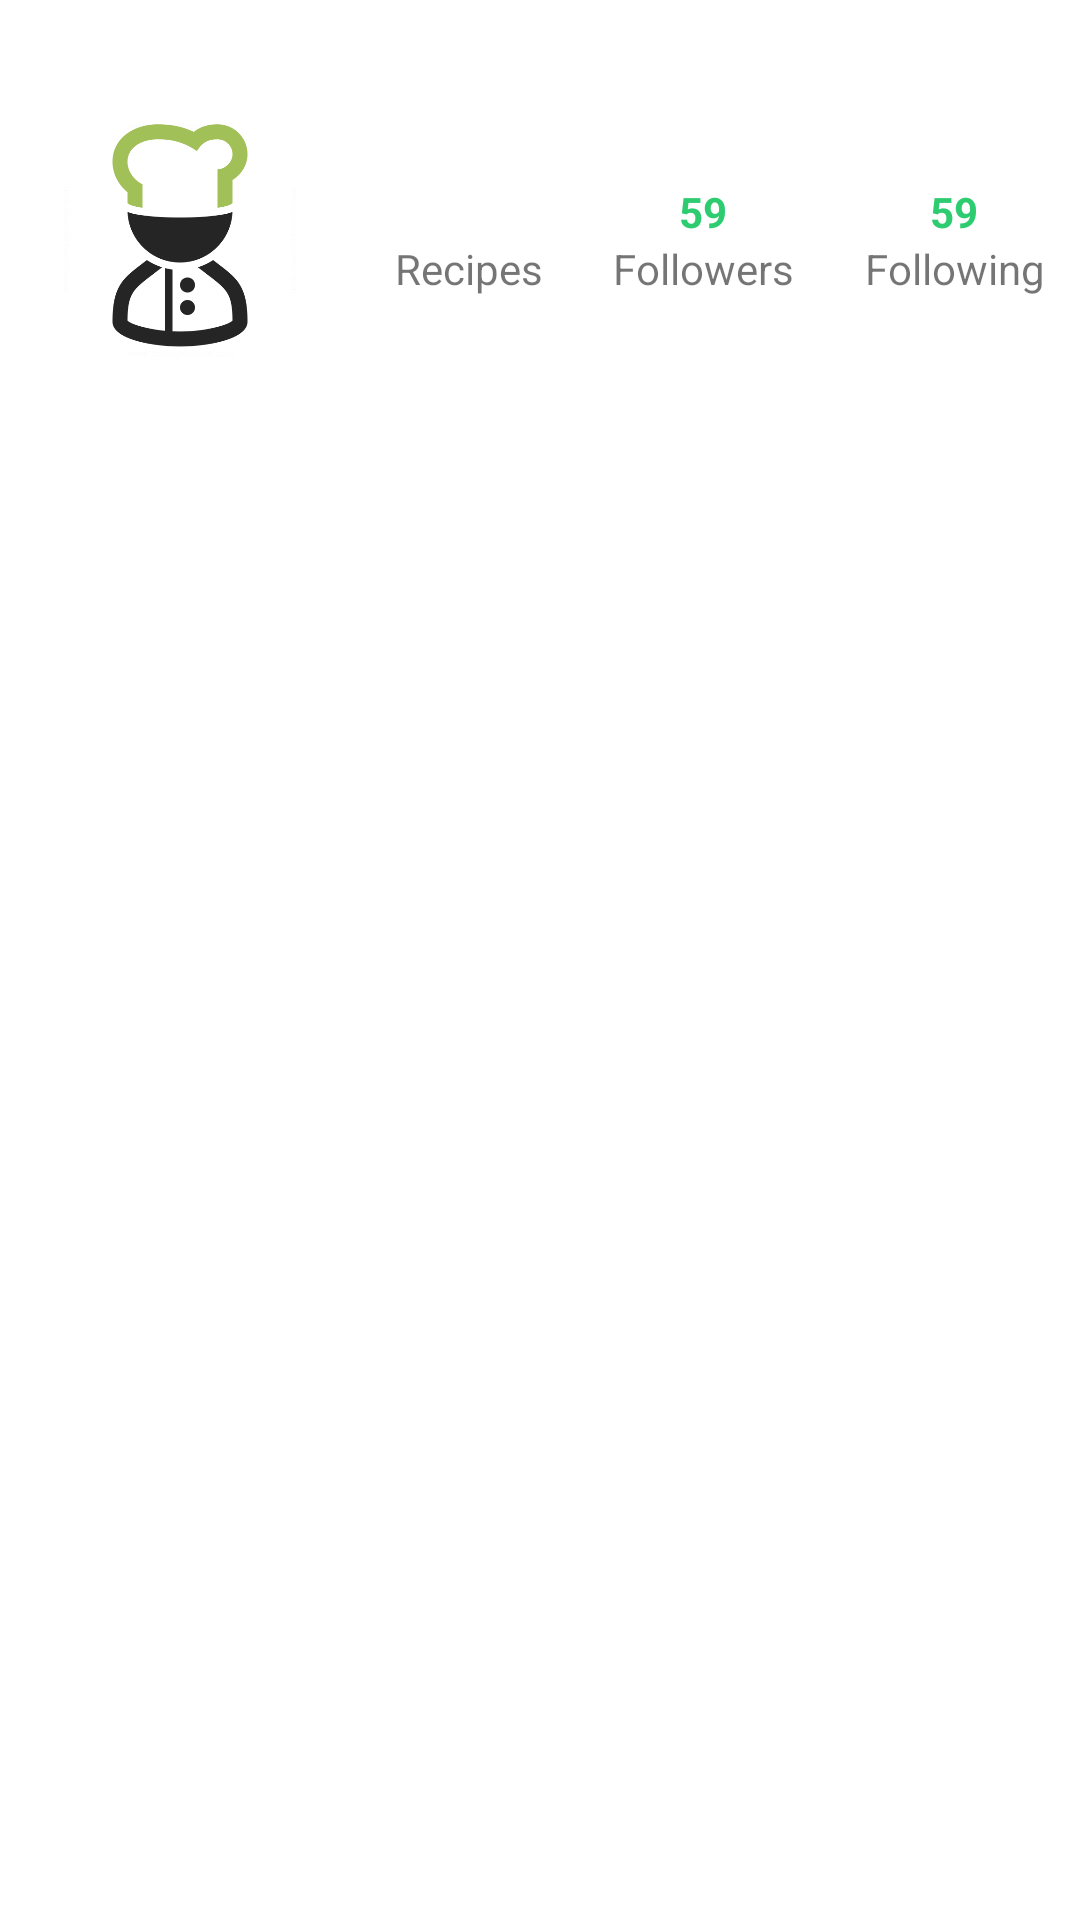

Icon bounding boxes for this 1080*1920 phone screenshot, format (x1, y1, x2, y2):
profile photo cook: (112, 124, 248, 347)
